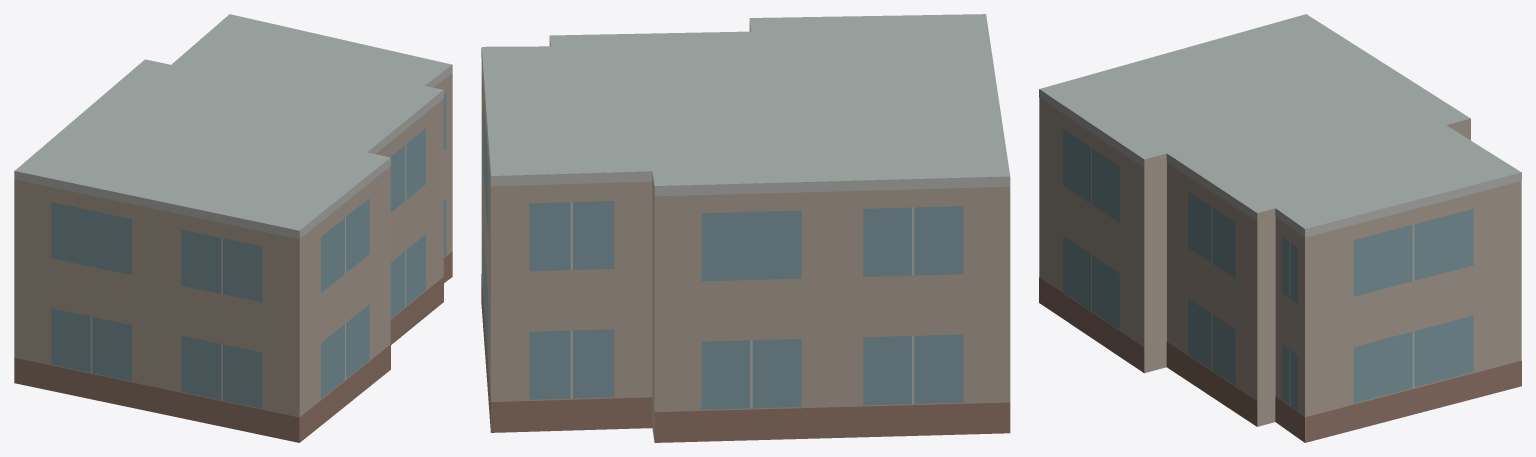
Rendered from survey-upis-32678513.glb.
3 renders of one model, left to right at view 1: azimuth 30°, elevation 25°; view 2: azimuth 150°, elevation 25°; view 3: azimuth 270°, elevation 25°, orthographic. The views are drawn at different scales.
Visible parts, largest first — view 1: survey-upis-32678513.tmp; view 2: survey-upis-32678513.tmp; view 3: survey-upis-32678513.tmp.
Part boxes in pixels (<box>): survey-upis-32678513.tmp: <box>14,14,452,442</box>; survey-upis-32678513.tmp: <box>481,14,1010,442</box>; survey-upis-32678513.tmp: <box>1039,14,1521,442</box>.
Bounding box in the file's own units: 13.17 × 6.1 × 12.49.
